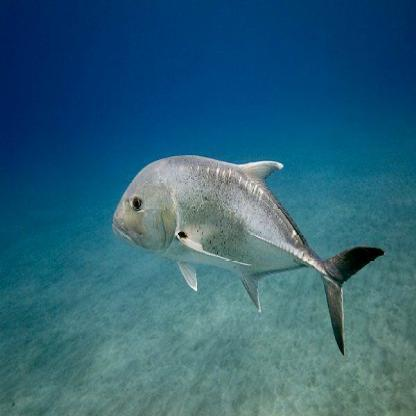Bio: (106, 136, 390, 356)
